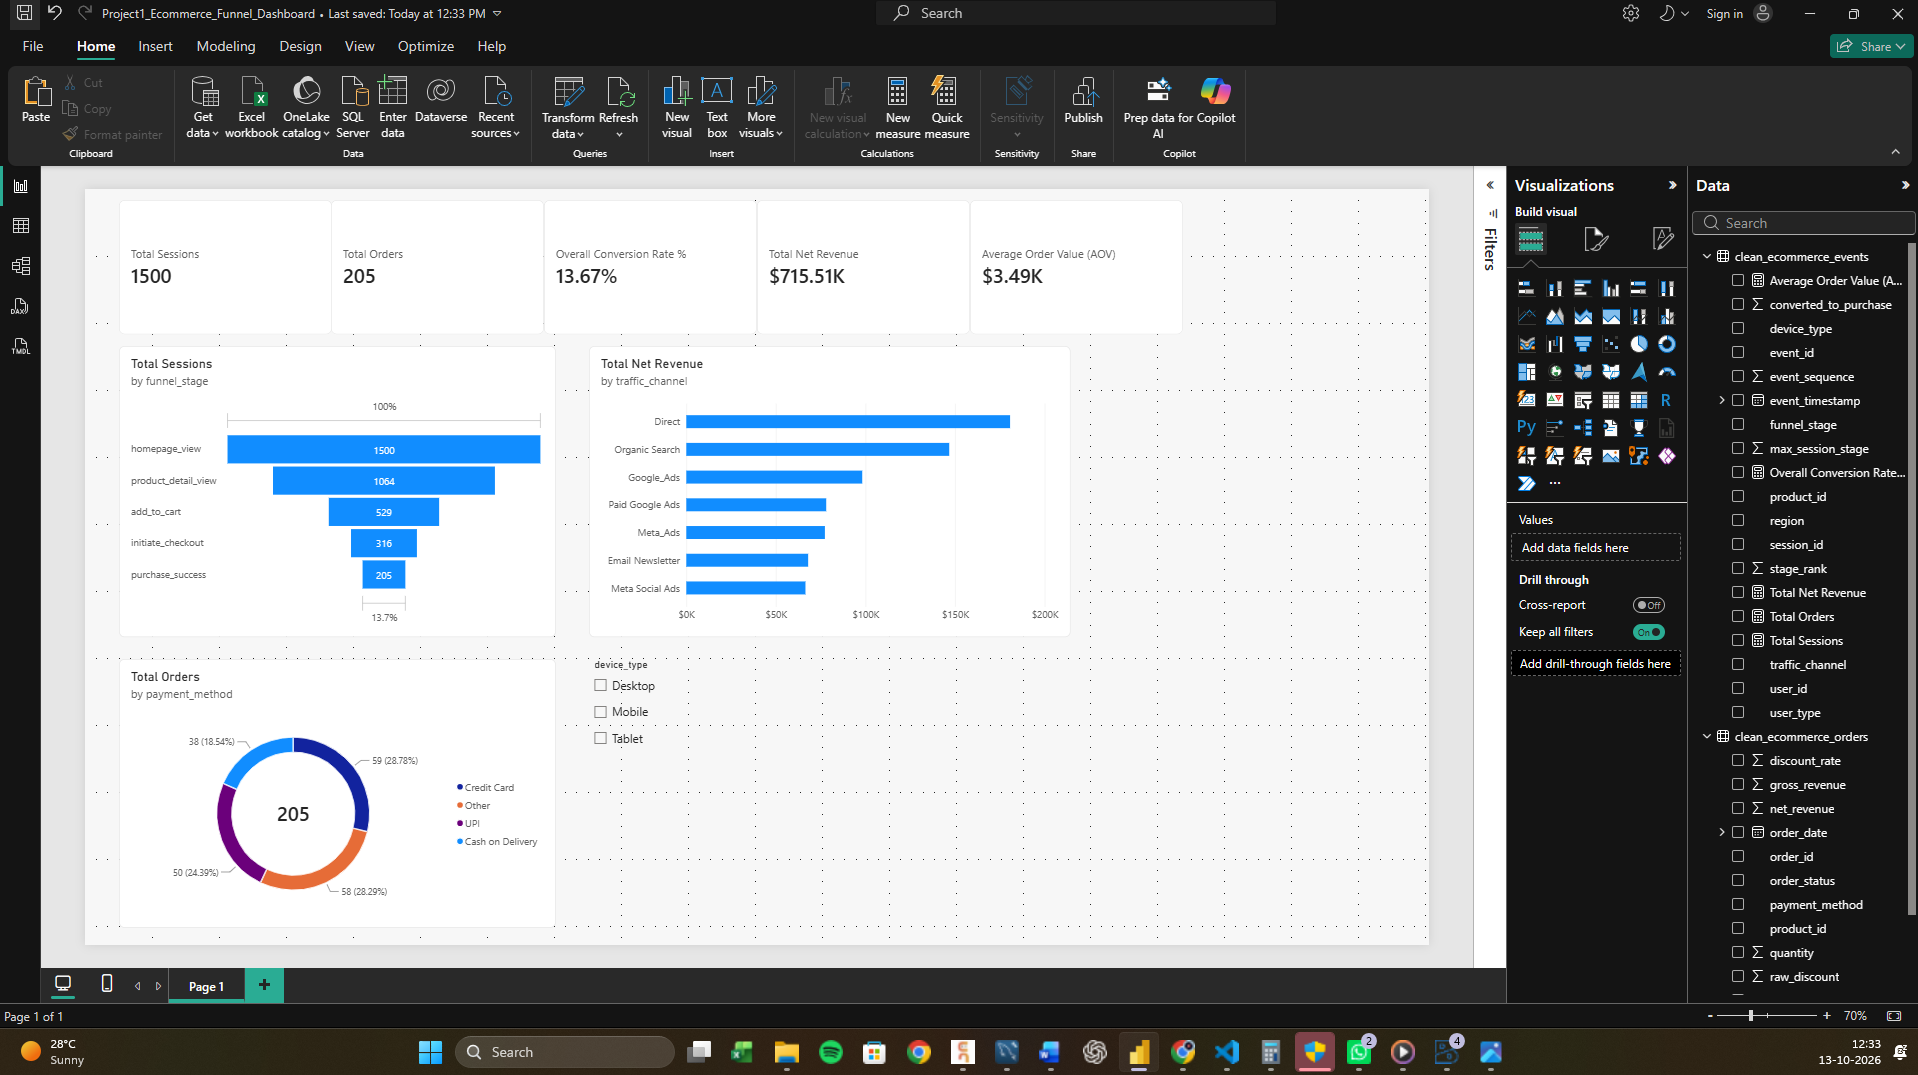

This screenshot's page, from the dashboard's own definition file:
{"tool":"powerbi","page":{"name":"Page 1","canvas":[1920,1080],"ordinal":0},"visuals":[{"type":"funnel","fields":{"Category":["clean_ecommerce_events.funnel_stage"],"Y":["clean_ecommerce_events.Total Sessions"]},"box":[48,224,624,416],"z":0},{"type":"clusteredBarChart","fields":{"Category":["clean_ecommerce_events.traffic_channel"],"Y":["clean_ecommerce_events.Total Net Revenue"]},"box":[720,224,688,416],"z":1000},{"type":"donutChart","fields":{"Category":["clean_ecommerce_orders.payment_method"],"Y":["clean_ecommerce_events.Total Orders"]},"box":[48,672,624,384],"z":2000},{"type":"slicer","fields":{"Values":["clean_ecommerce_events.device_type"]},"box":[720,672,336,288],"z":3000},{"type":"cardVisual","fields":{"Data":["clean_ecommerce_events.Total Sessions"]},"box":[48,16,304,192],"z":3001},{"type":"cardVisual","fields":{"Data":["clean_ecommerce_events.Total Orders"]},"box":[352,16,304,192],"z":3002},{"type":"cardVisual","fields":{"Data":["clean_ecommerce_events.Average Order Value (AOV)"]},"box":[1264,16,304,192],"z":3003},{"type":"cardVisual","fields":{"Data":["clean_ecommerce_events.Total Net Revenue"]},"box":[960,16,304,192],"z":3004},{"type":"cardVisual","fields":{"Data":["clean_ecommerce_events.Overall Conversion Rate %"]},"box":[656,16,304,192],"z":3005}]}

Visuals, with their boxes on the page's 1920x1080 design canvas (x1, y1, x2, y2). These are canvas units, not pixel positions in the 1918x1075 screenshot, which may show the page scaled, cropped or inside an application window:
funnel - clean_ecommerce_events.funnel_stage x clean_ecommerce_events.Total Sessions: [x1=48, y1=224, x2=672, y2=640]
clusteredBarChart - clean_ecommerce_events.traffic_channel x clean_ecommerce_events.Total Net Revenue: [x1=720, y1=224, x2=1408, y2=640]
donutChart - clean_ecommerce_orders.payment_method x clean_ecommerce_events.Total Orders: [x1=48, y1=672, x2=672, y2=1056]
slicer - clean_ecommerce_events.device_type: [x1=720, y1=672, x2=1056, y2=960]
cardVisual - clean_ecommerce_events.Total Sessions: [x1=48, y1=16, x2=352, y2=208]
cardVisual - clean_ecommerce_events.Total Orders: [x1=352, y1=16, x2=656, y2=208]
cardVisual - clean_ecommerce_events.Average Order Value (AOV): [x1=1264, y1=16, x2=1568, y2=208]
cardVisual - clean_ecommerce_events.Total Net Revenue: [x1=960, y1=16, x2=1264, y2=208]
cardVisual - clean_ecommerce_events.Overall Conversion Rate %: [x1=656, y1=16, x2=960, y2=208]
